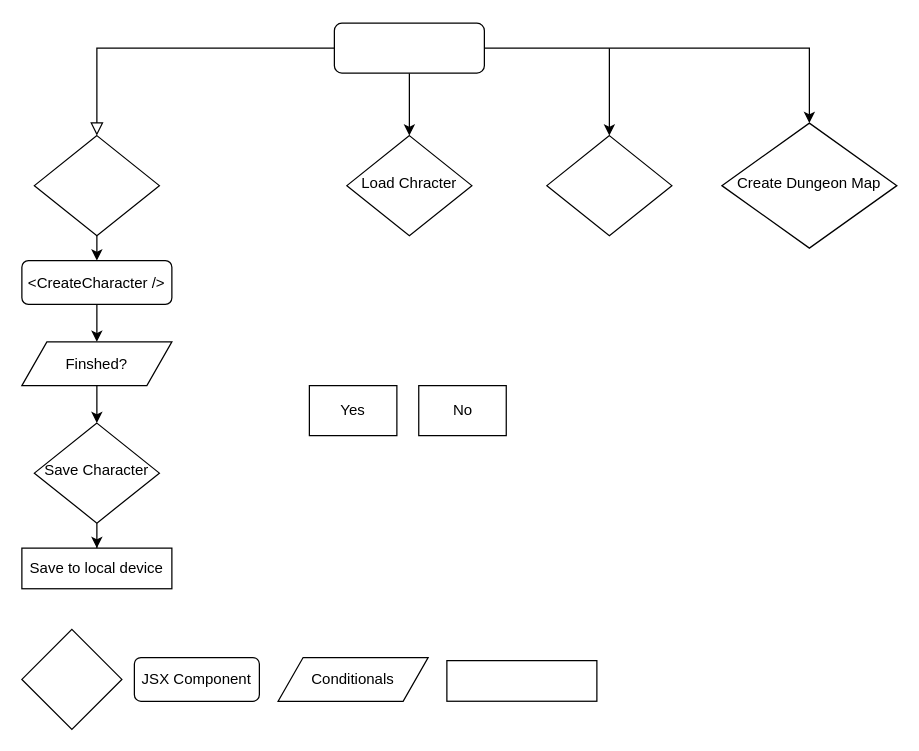
Some shapes in this 919 by 751 pixel diagram are drawn without their labels. The shapes that lost their labels are listed below. From the top down, each one's centre as x and y in pixels, then its label:
point 408,47: App.js <App /> Route="/"
point 96,185: Create New Character
point 609,185: Test Character
point 71,678: HTML Element
point 521,680: JS Implementation
